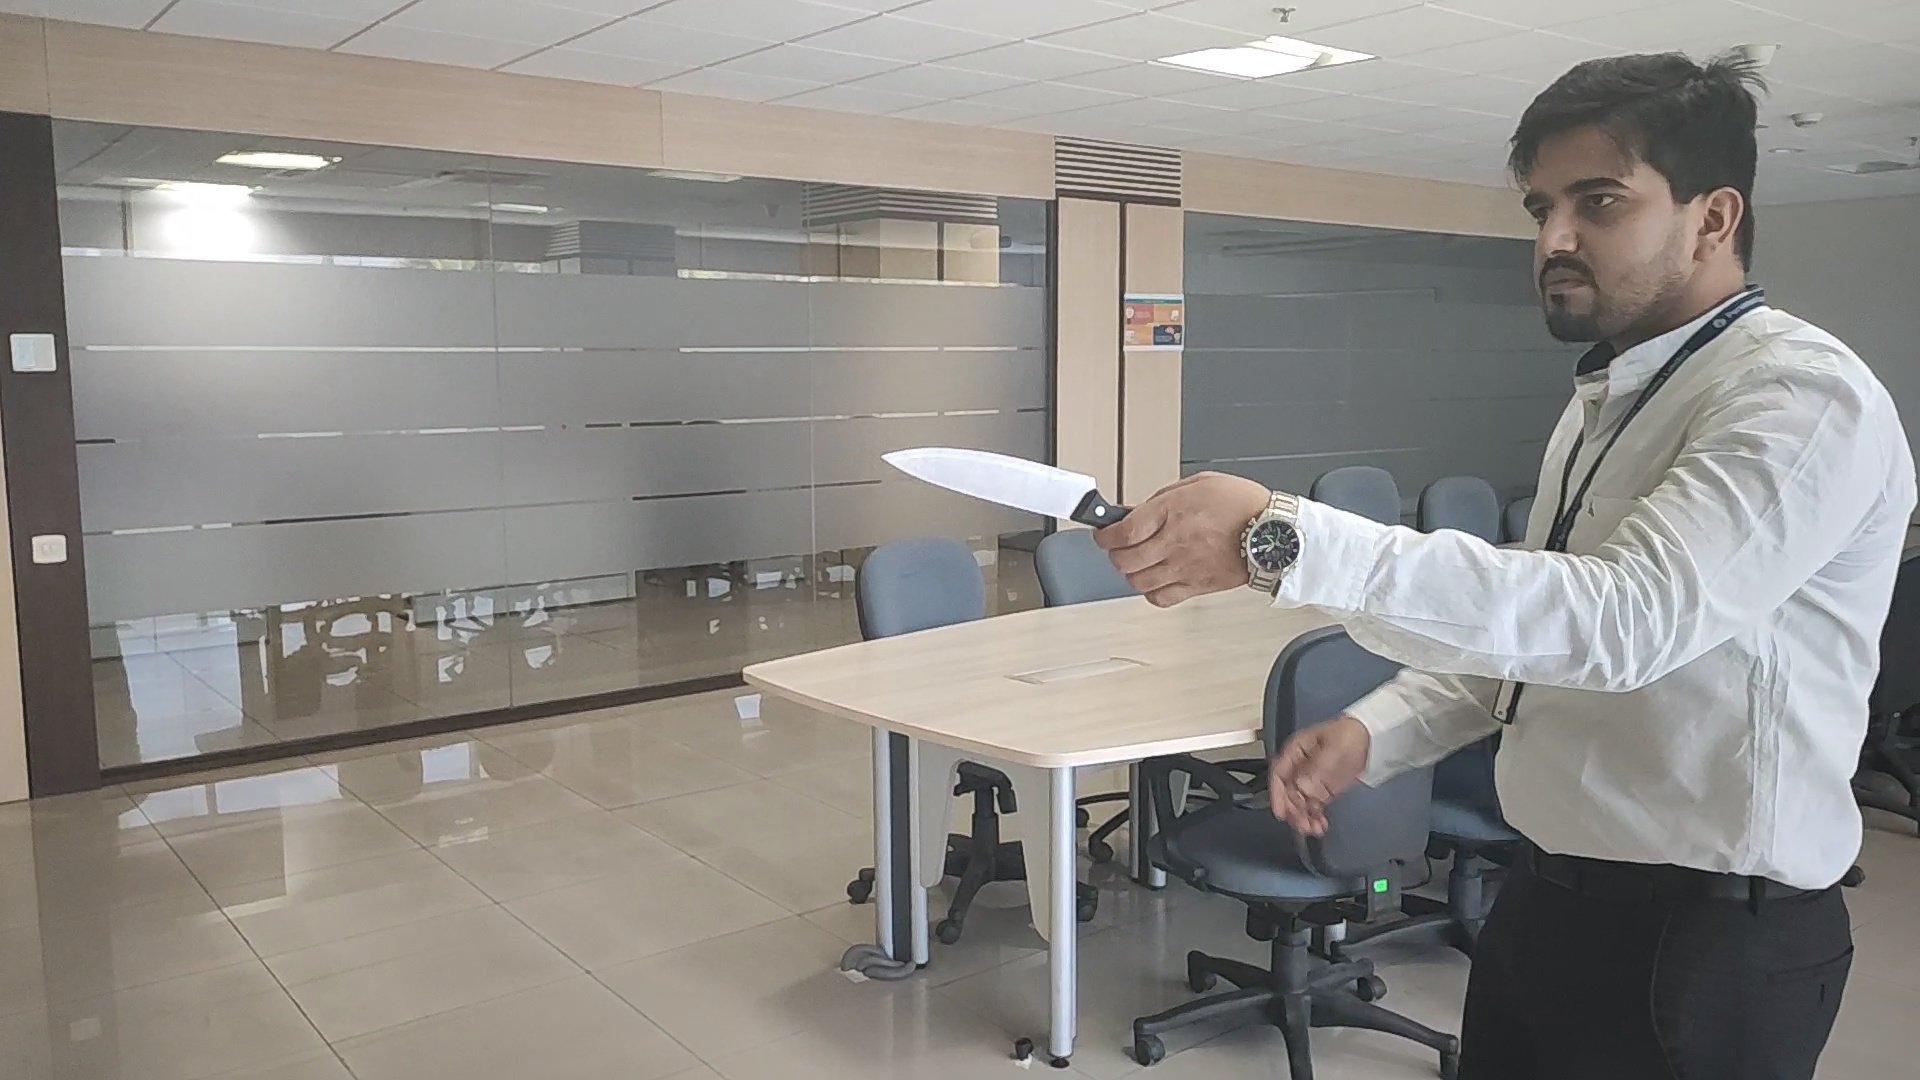knife: (880, 439, 1124, 526)
